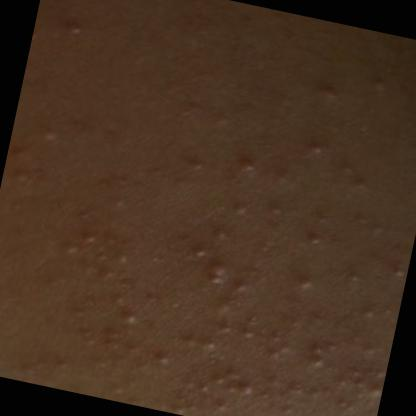Chicken Skin: (24, 94, 416, 416)
